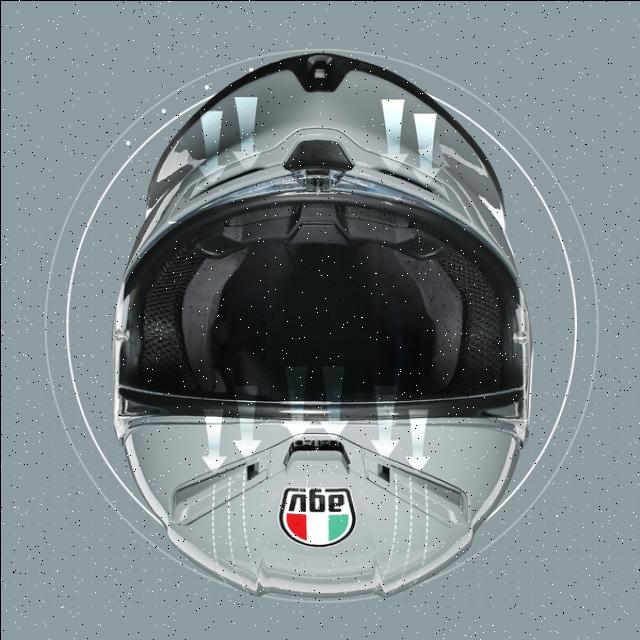Helmet: (112, 48, 533, 602)
